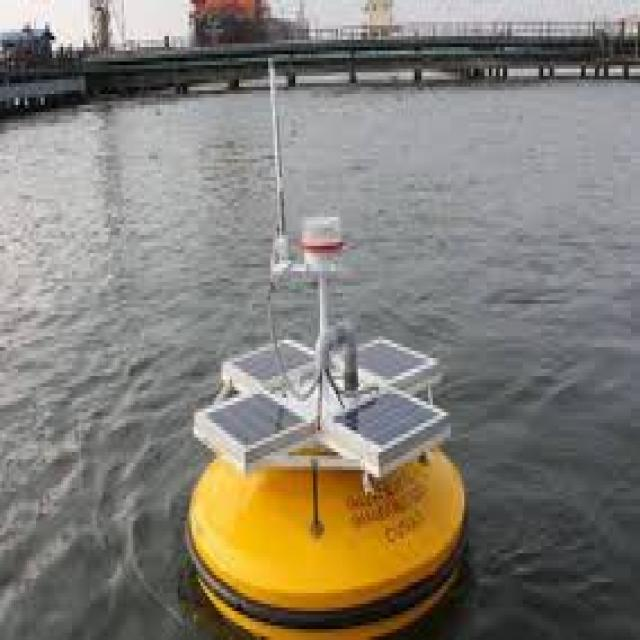2.5 sepcial mark: (178, 62, 476, 639)
